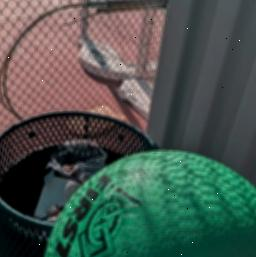algae: (41, 144, 256, 257)
